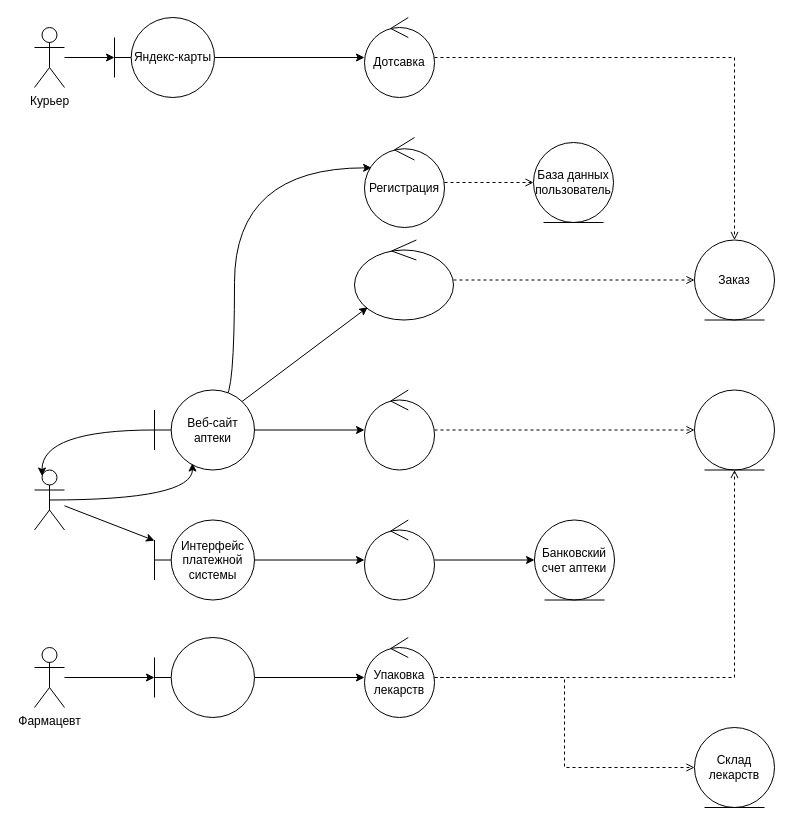
This 792x825 diagram has some shape labels left out. The shapes that lost their labels are listed below. From the top down, each one's box as (x1, y1, x2, y2) in pixels, then its label:
(354, 239, 454, 320): Подтверждение заказа
(364, 389, 434, 470): Выбор
(694, 389, 774, 470): База данных заказов
(34, 469, 64, 530): Покупатель
(364, 519, 434, 600): Оплата
(154, 636, 254, 718): Интерфейс фармацевта
